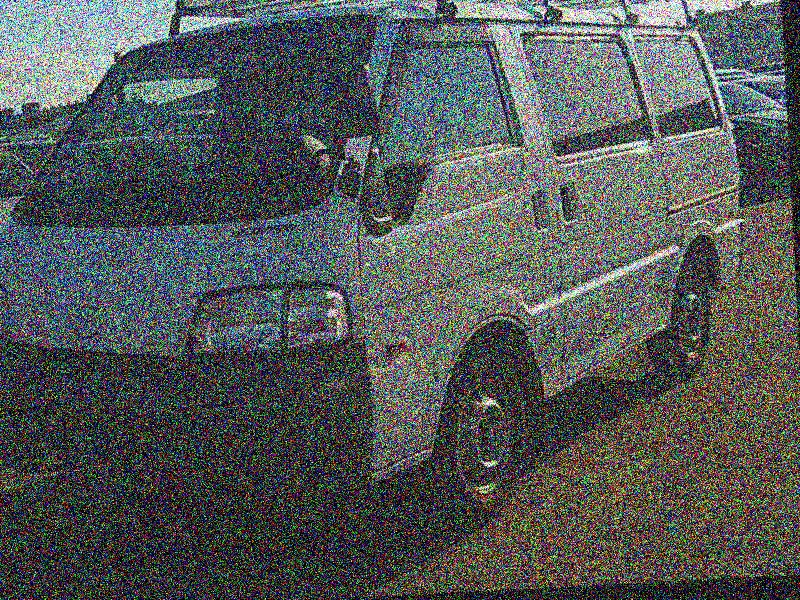van: (0, 0, 751, 540)
